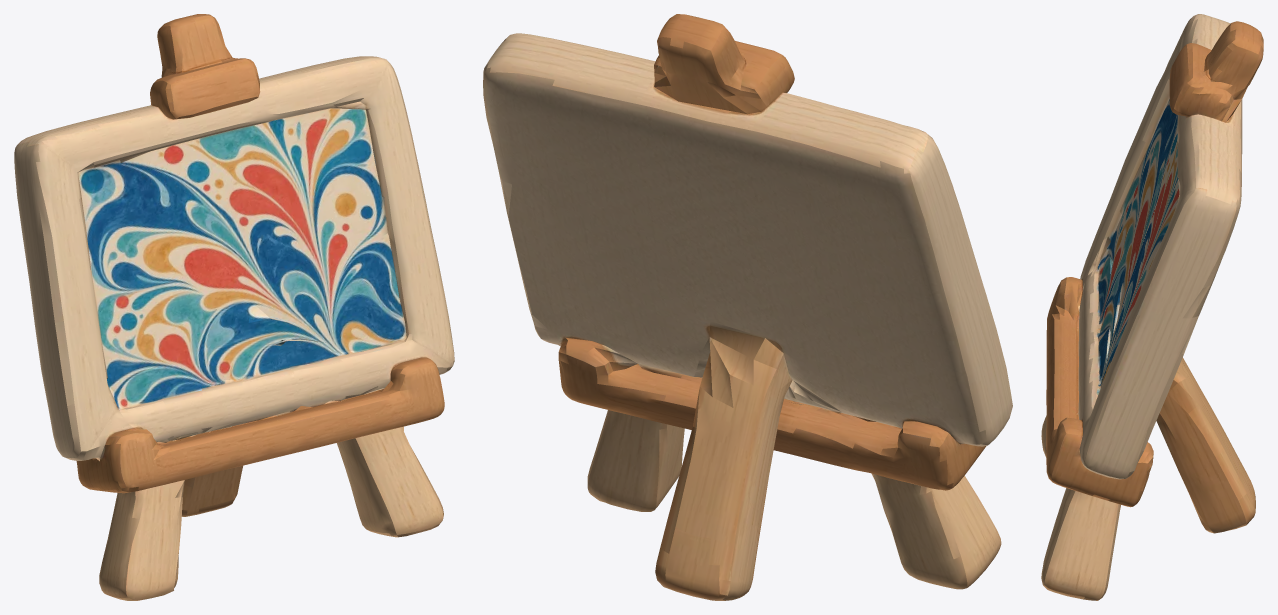
Rendered from ebru.glb.
3 renders of one model, left to right at view 1: azimuth 30°, elevation 25°; view 2: azimuth 150°, elevation 25°; view 3: azimuth 270°, elevation 25°, orthographic. The views are drawn at different scales.
Visible parts, largest first — view 1: Mesh0; view 2: Mesh0; view 3: Mesh0.
Part boxes in pixels (left/top/right/bottom): Mesh0: left=14, top=14, right=454, bottom=600; Mesh0: left=483, top=14, right=1012, bottom=600; Mesh0: left=1041, top=14, right=1263, bottom=600.
Bounding box in the file's own units: 1.55 × 1.9 × 0.7667.
Materials: 1 (1 with a texture image).
